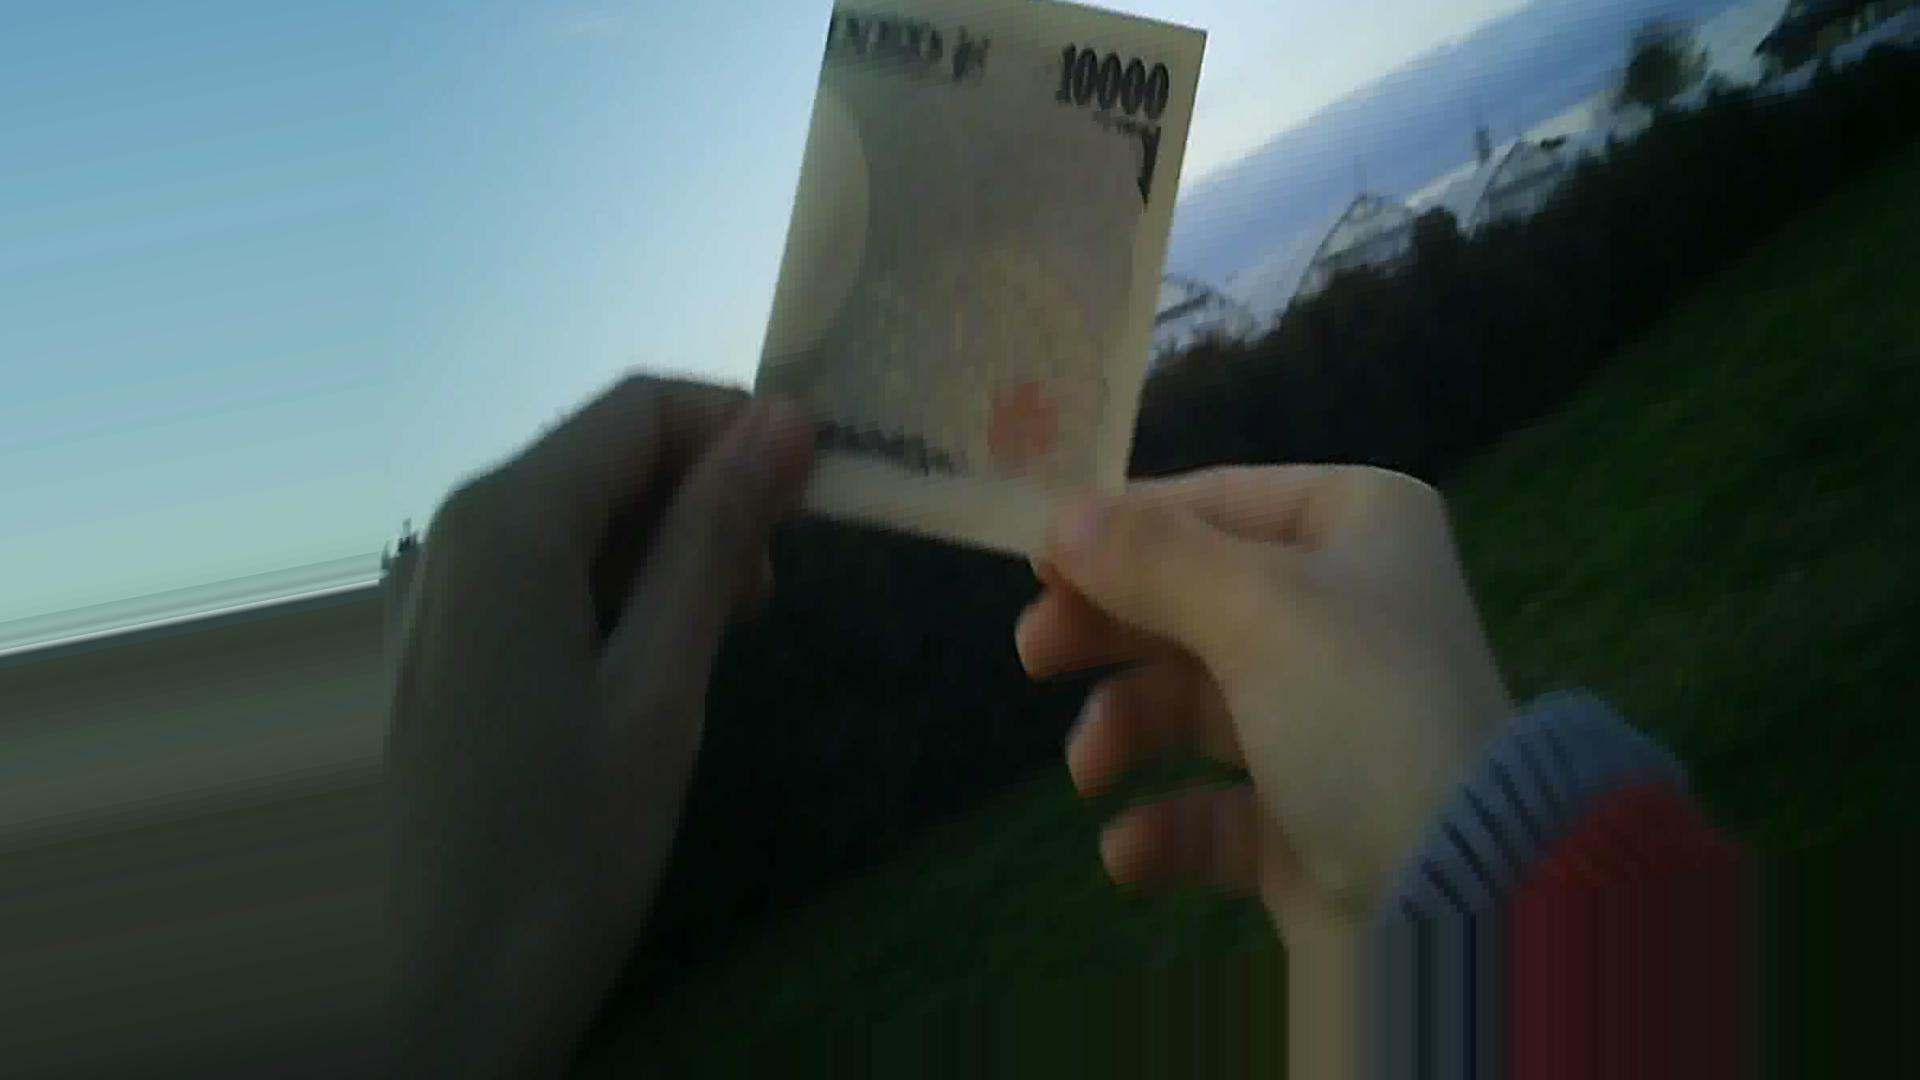10,000 Yen: (741, 11, 1215, 566)
